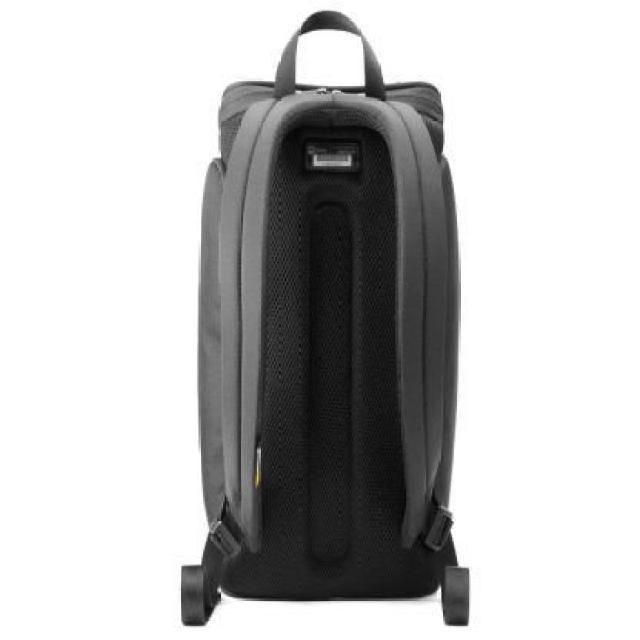backpack: (178, 12, 477, 631)
